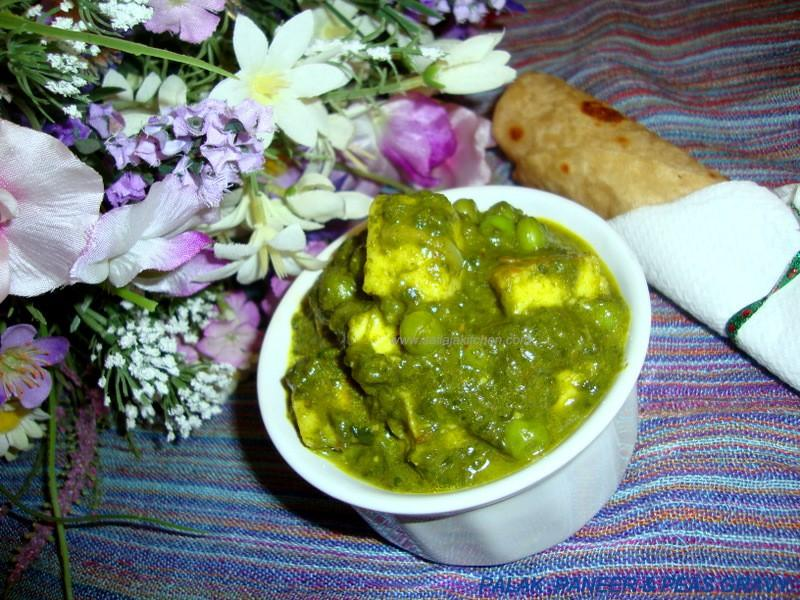PalakPaneer: (281, 192, 634, 497)
